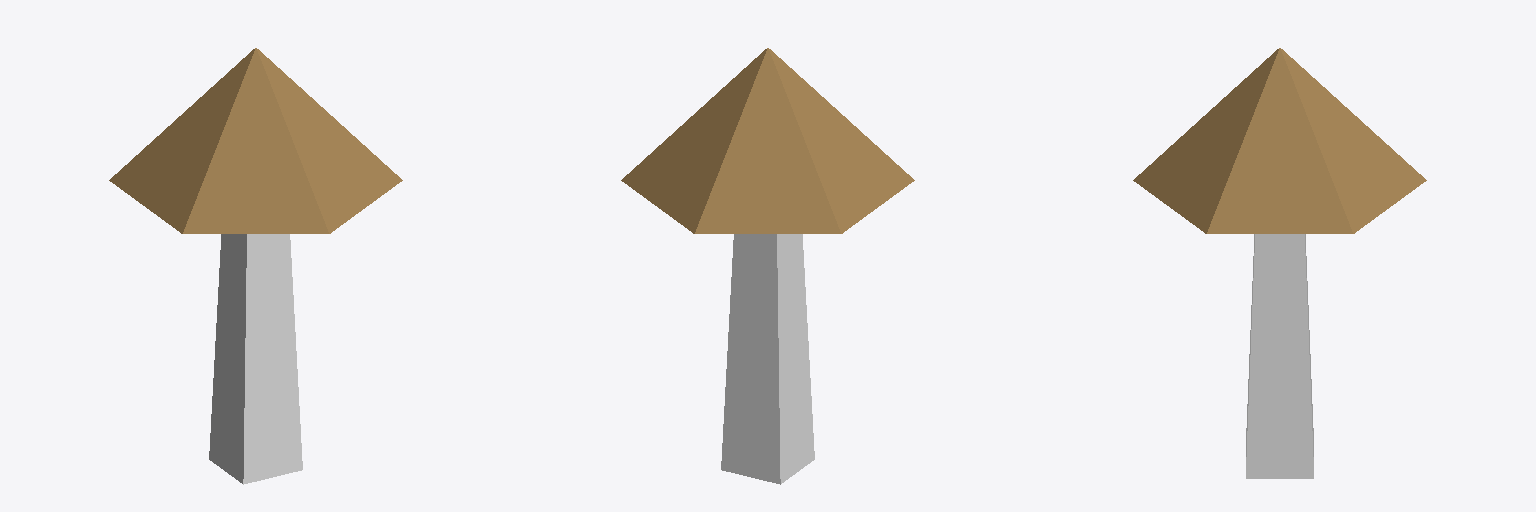
3 views of the same model, side by side, from view 1: azimuth 30°, elevation 25°; view 2: azimuth 150°, elevation 25°; view 3: azimuth 270°, elevation 25° (orthographic).
Visible parts, largest first — view 1: Mesh1 Mushroom_Tall Model; view 2: Mesh1 Mushroom_Tall Model; view 3: Mesh1 Mushroom_Tall Model.
Part boxes in pixels (x1,y1,x2,y2): Mesh1 Mushroom_Tall Model: (109, 48, 402, 484); Mesh1 Mushroom_Tall Model: (621, 48, 914, 484); Mesh1 Mushroom_Tall Model: (1133, 48, 1426, 478).
Bounding box in the file's own units: 0.4349 × 0.787 × 0.5022.
1 materials, 1 textured.